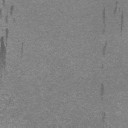red iron: (0, 28, 8, 60), (102, 42, 107, 56), (120, 14, 124, 31), (100, 84, 104, 96), (102, 9, 106, 20), (102, 112, 106, 122), (10, 6, 14, 15)
